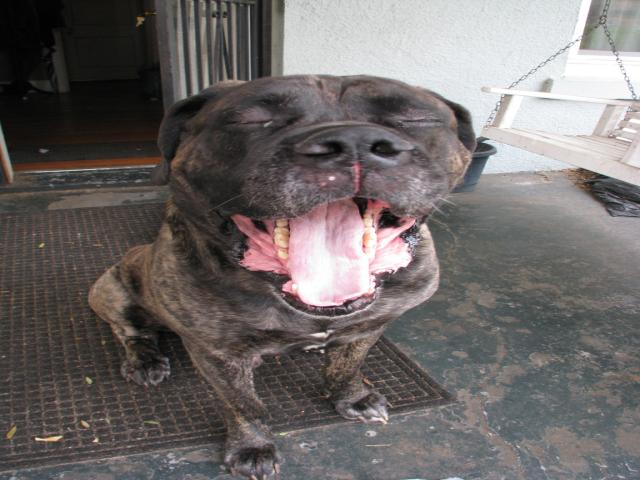Dog: (84, 72, 477, 480)
